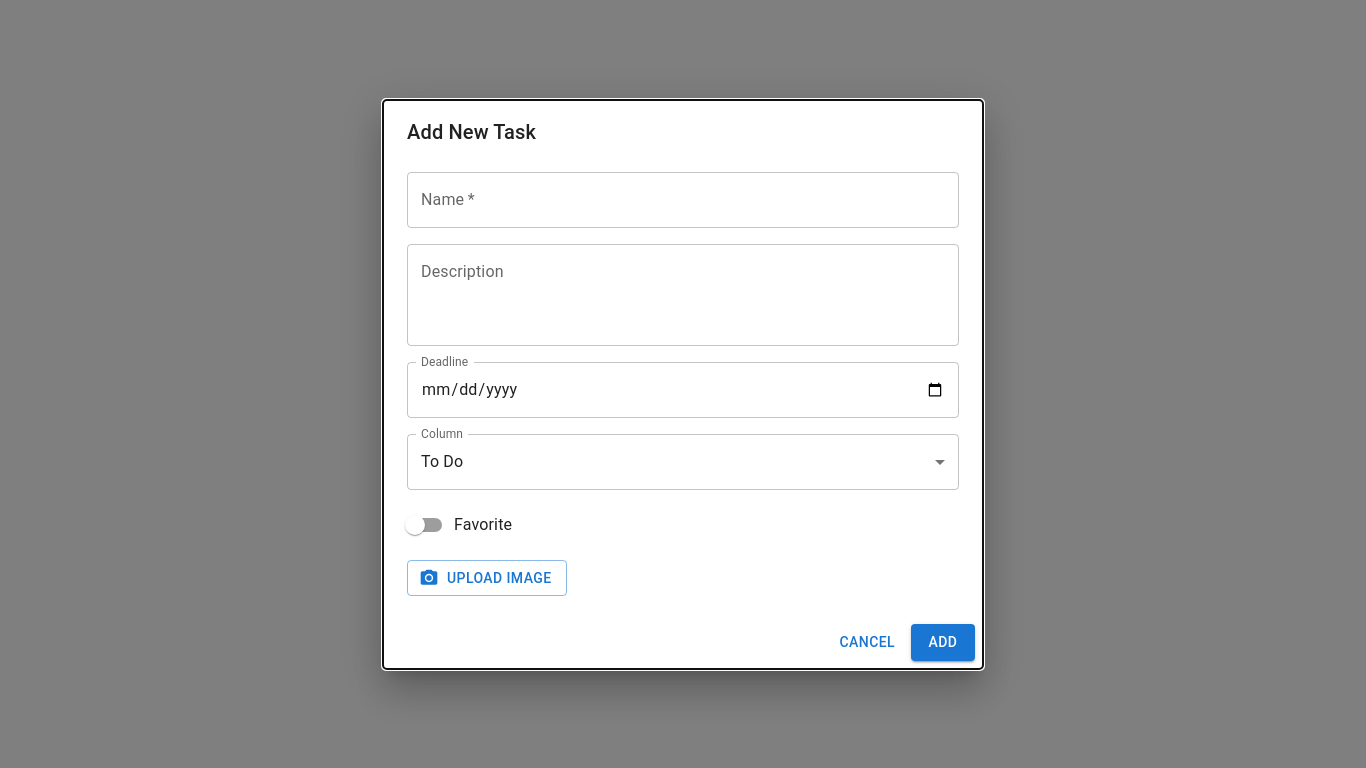
Scenario: TaskDialog › should show error when submitting without name
This screenshot has width=1366, height=768.
What coordinates should you click on to do the following:
click the button with test id "save-task-btn"
I would click on:
 (943, 642)
Its box is [911,624,975,660].
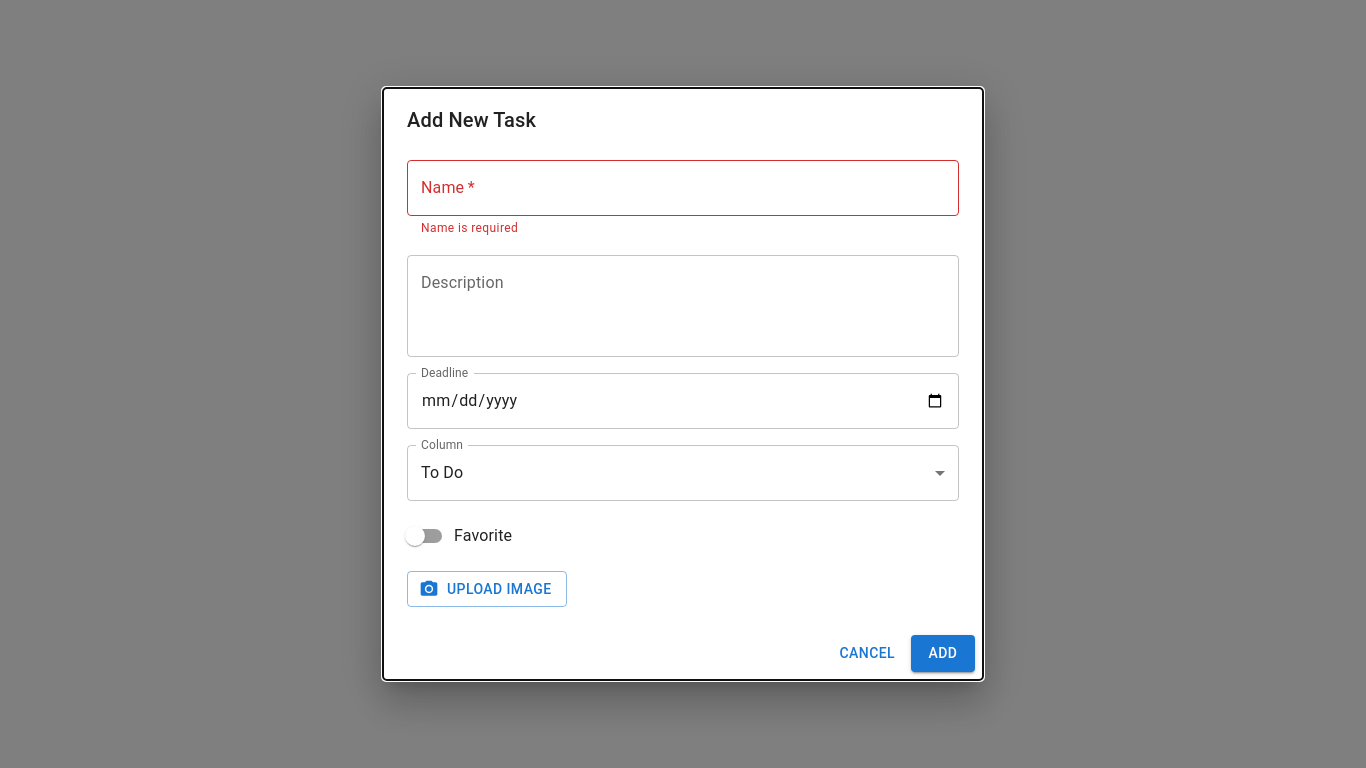
Check: the text "Name is required" is shown, box [421,221,518,235]
